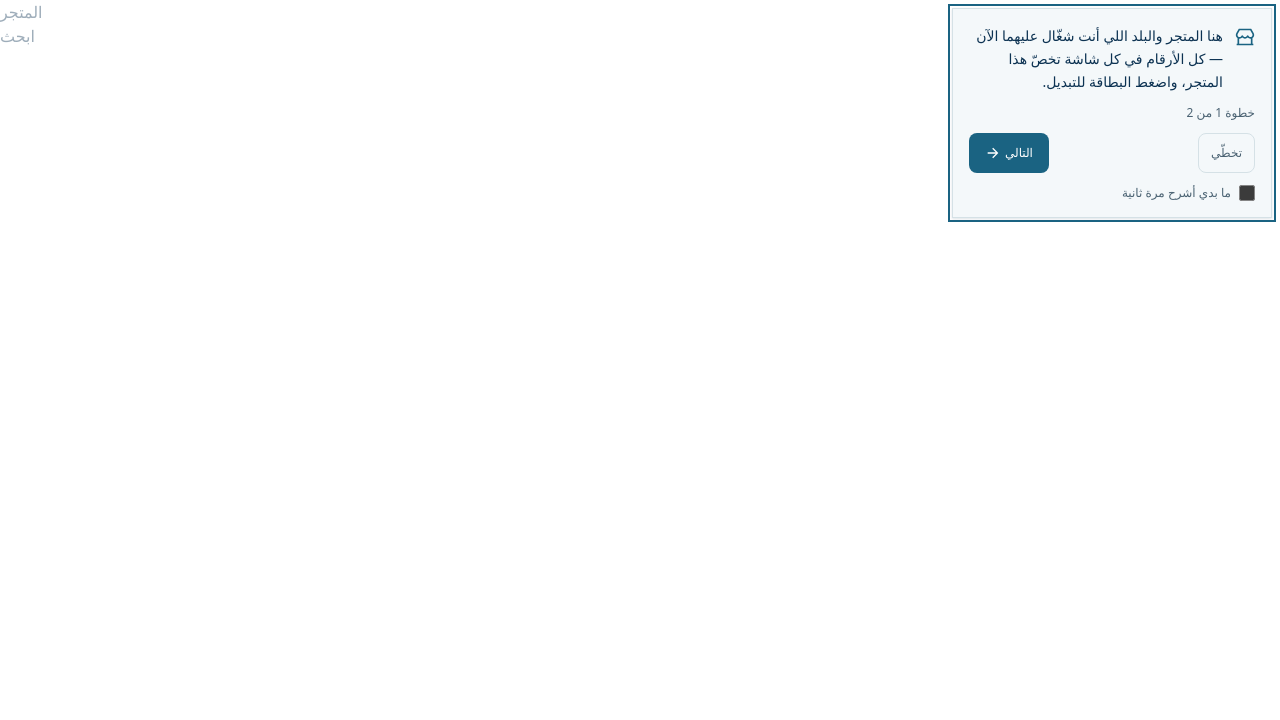
Test case: a step whose element is not on the screen › is dropped from the plan, not drawn against nothing — and the count is honest
Expected: the text "المتجر والبلد" is shown, [976,26,1223,90]
Expected: the text "خطوة 1 من 2" is shown, [1187,104,1255,121]
Click the button "التالي" at (1009, 153), box [969,133,1049,173]
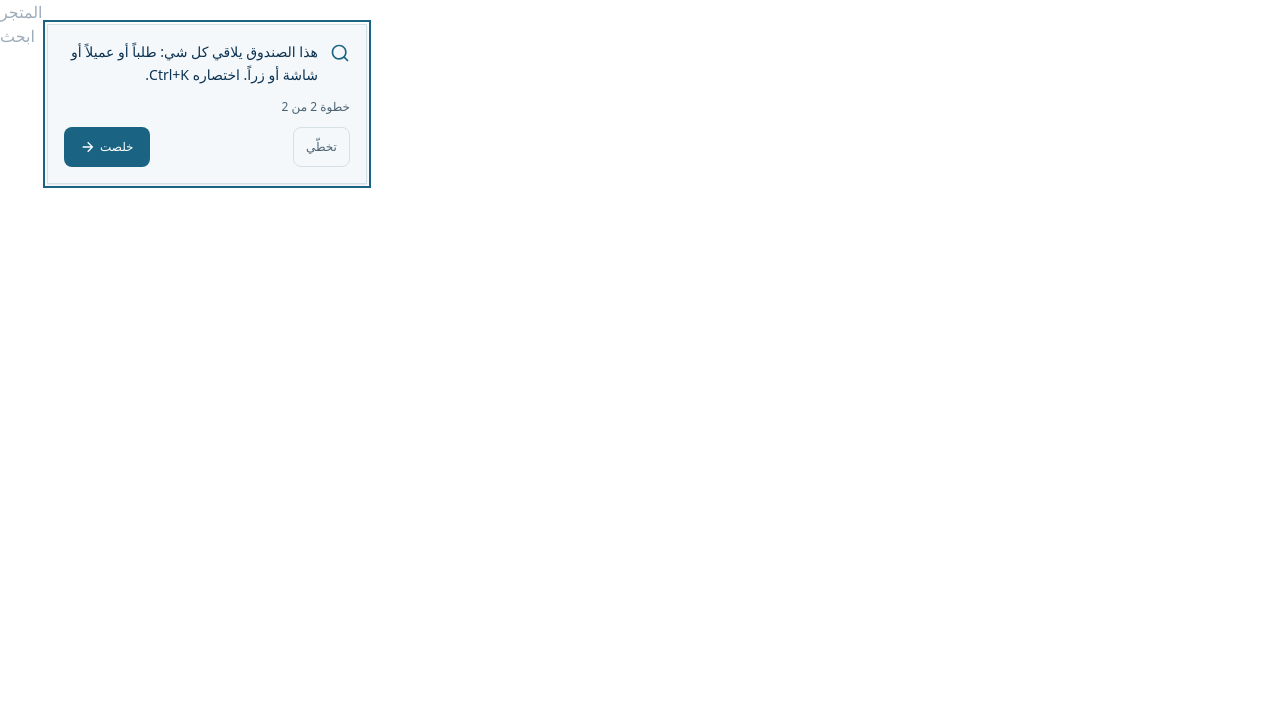
Expected: the text "يلاقي كل شي" is shown, [71,42,318,84]
Expected: the text "خطوة 2 من 2" is shown, [282,98,350,114]
Expected: the button "خلصت" is shown, [64,126,150,166]
